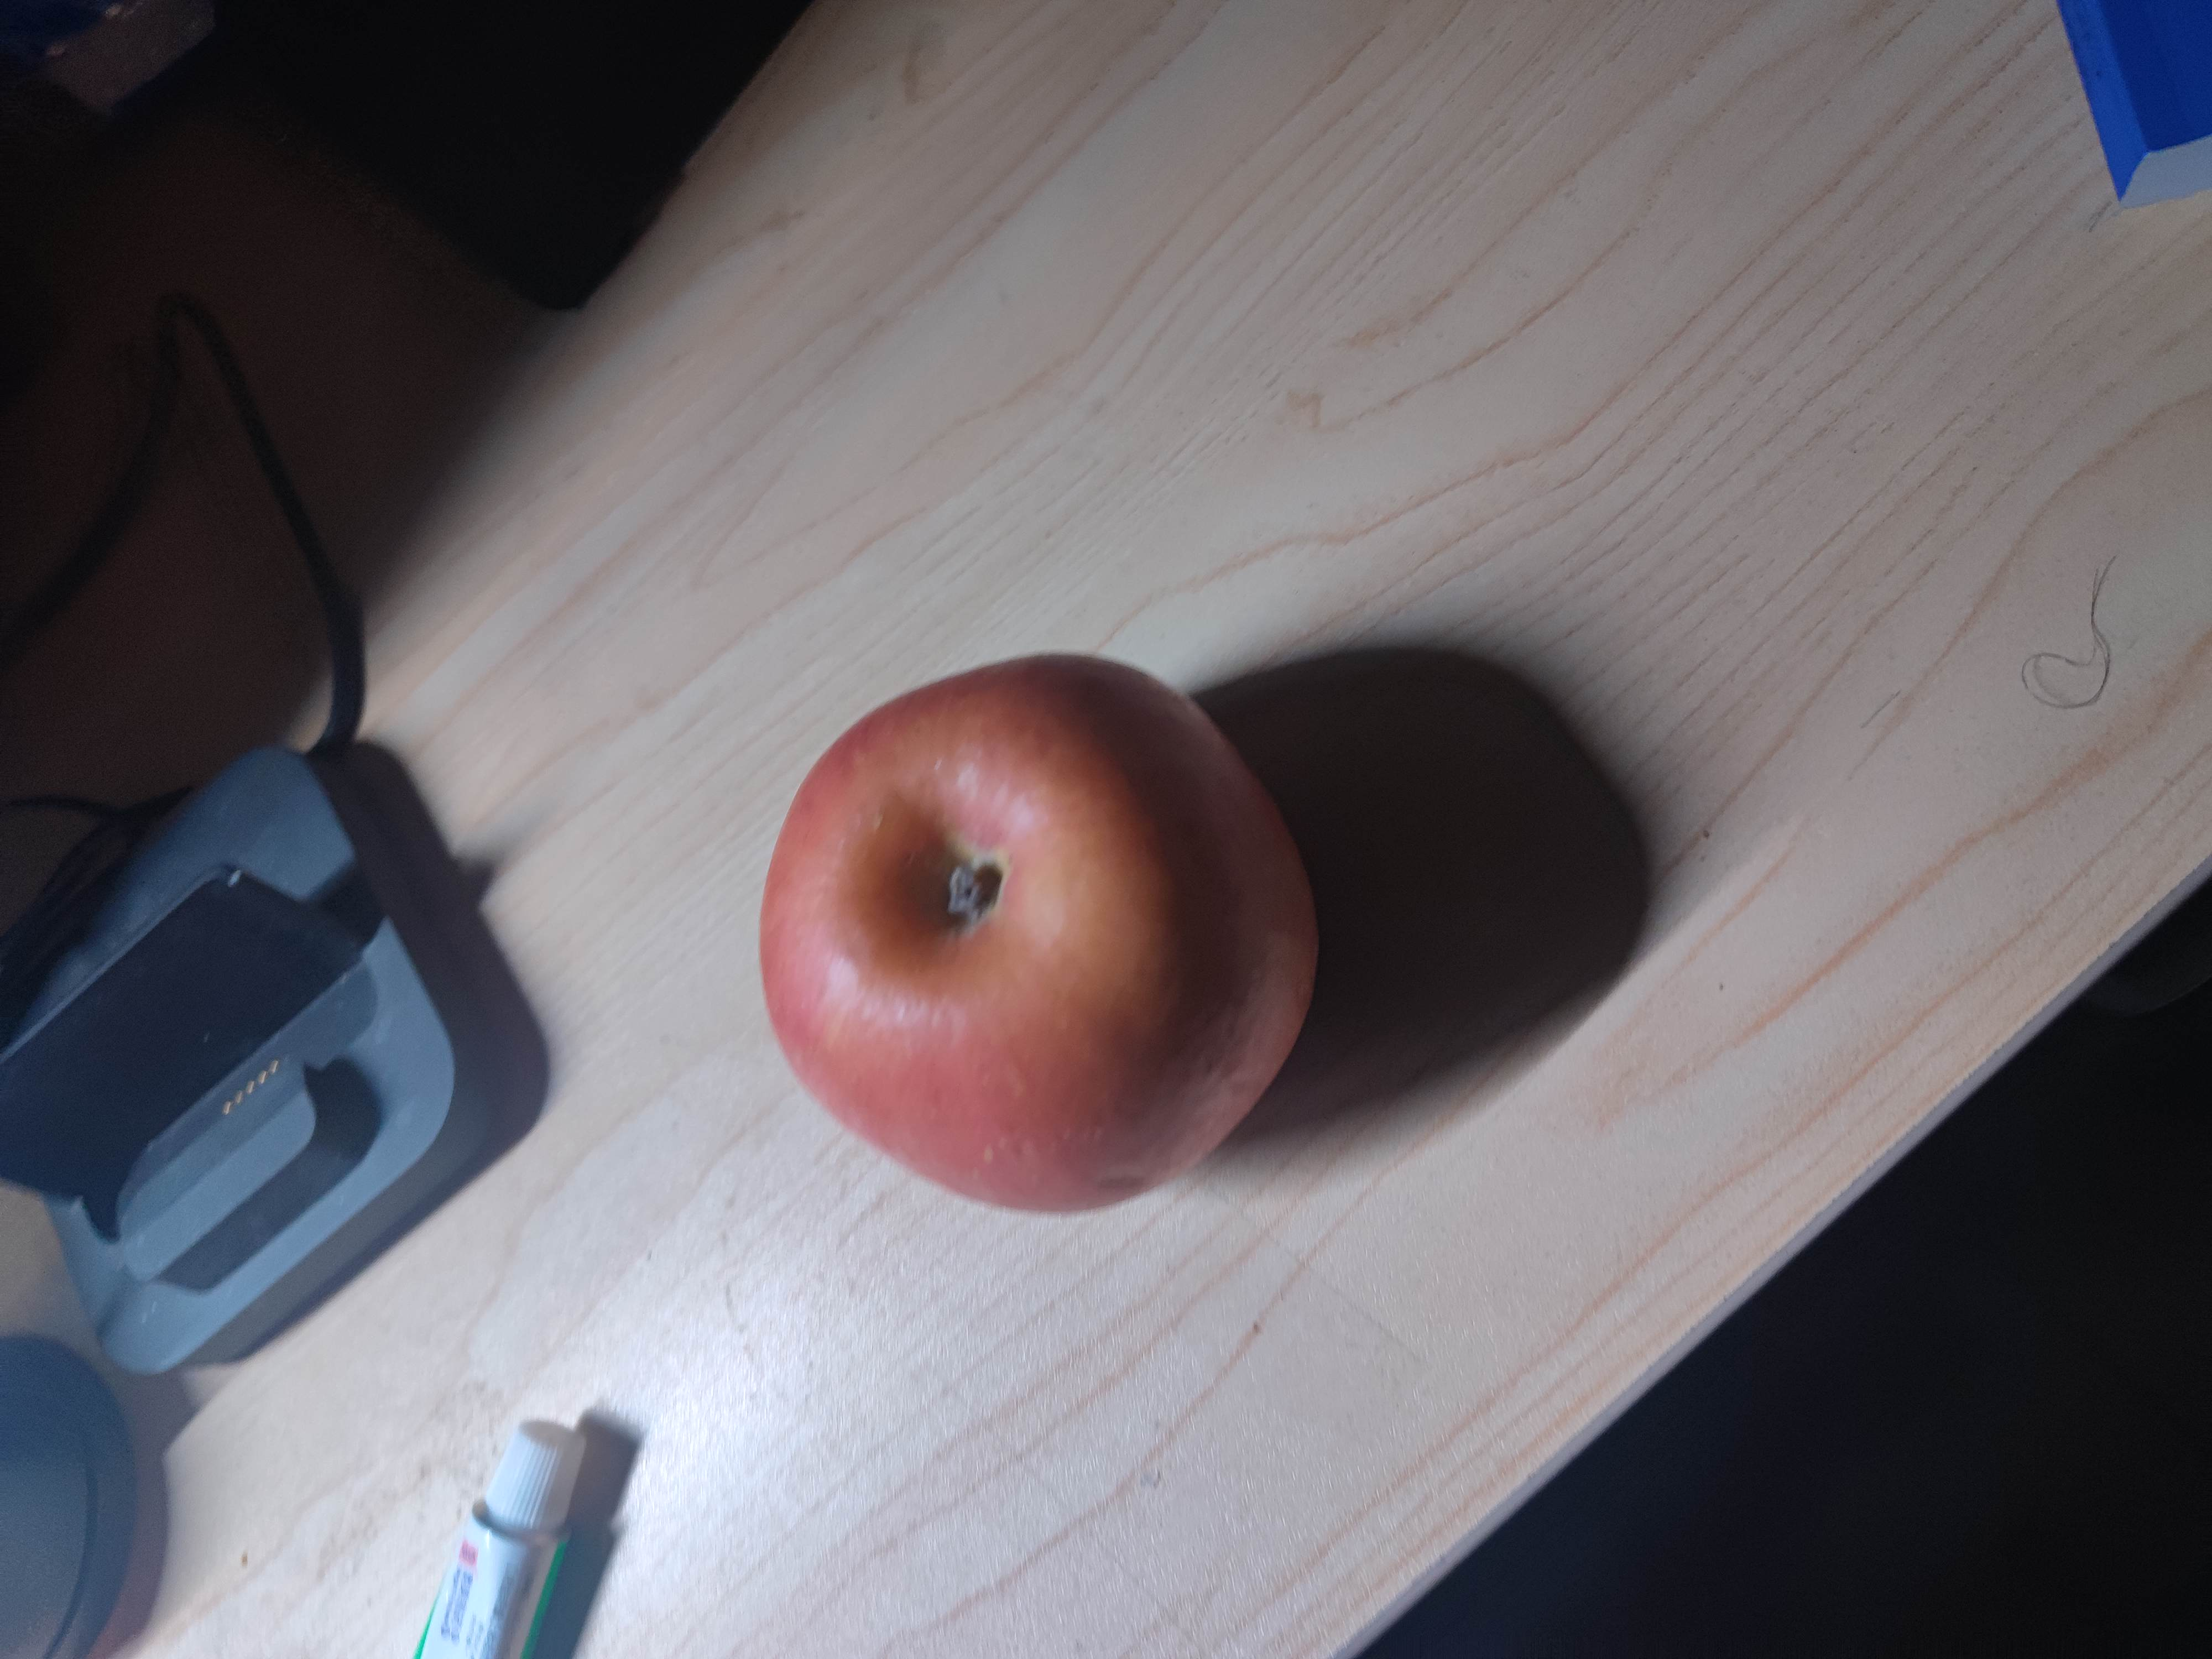apple: (756, 653, 1322, 1213)
